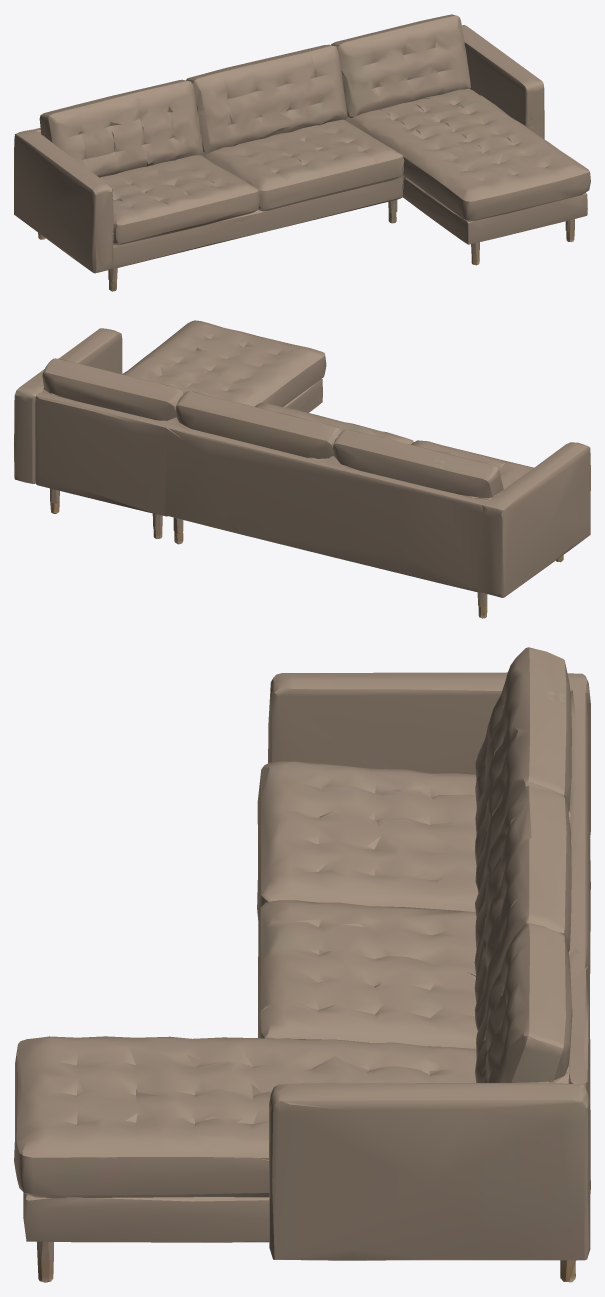
The model's file is 34 - LANDSKRONA - 四人座沙發，含躺椅GrannBomstad 深米色木材 IKEA 線上購物.glb.
3 views of the same model, one above another, from view 1: azimuth 30°, elevation 25°; view 2: azimuth 150°, elevation 25°; view 3: azimuth 270°, elevation 25° (orthographic). The views are drawn at different scales.
Visible parts, largest first — view 1: ProcessedMeshNode; view 2: ProcessedMeshNode; view 3: ProcessedMeshNode.
Part boxes in pixels (<box>): ProcessedMeshNode: <box>14,14,590,291</box>; ProcessedMeshNode: <box>14,320,590,618</box>; ProcessedMeshNode: <box>14,647,590,1282</box>.
Bounding box in the file's own units: 2.83 × 0.7881 × 1.59.
1 material, 1 textured.
